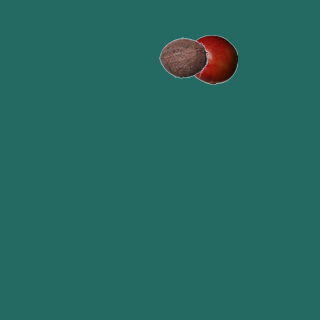Apple Braeburn: (187, 34, 237, 84)
Cocos: (158, 32, 208, 82)
